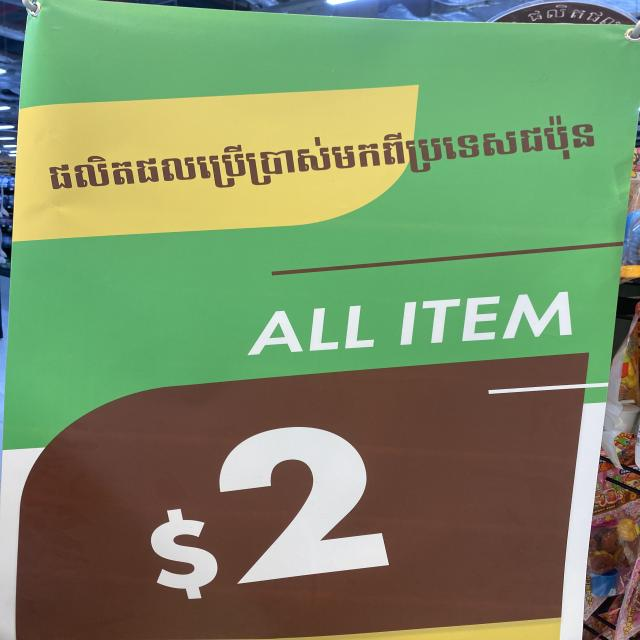631: (200, 413, 422, 595)
Yolov11kh: (45, 109, 606, 207), (137, 498, 234, 607)
